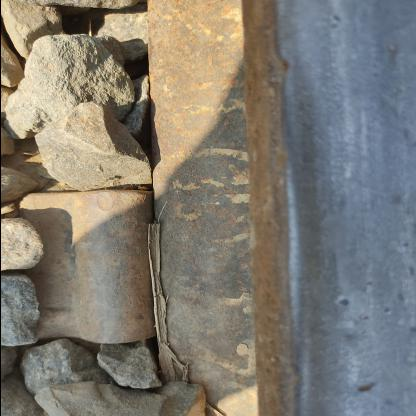Defective 1: (0, 163, 172, 380)
